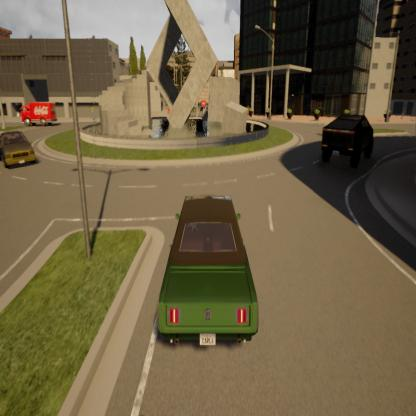Cars: (158, 193, 257, 348), (320, 112, 376, 172), (0, 130, 36, 170), (20, 101, 59, 127)
